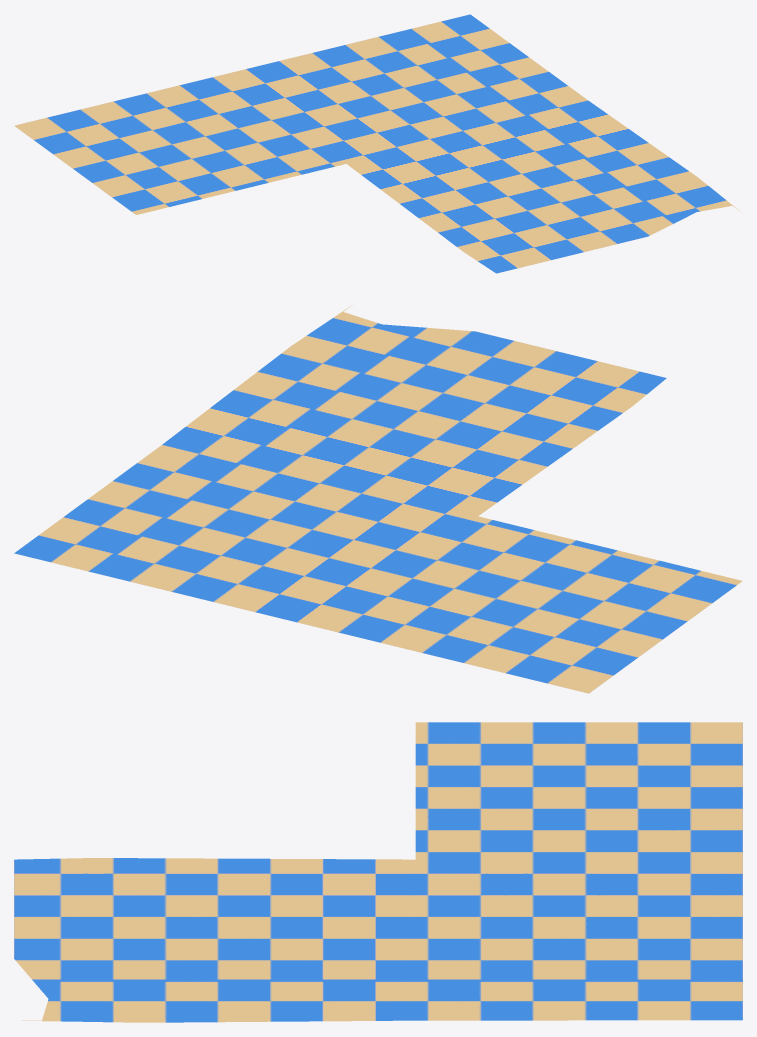
Rendered from game_Floor.fbx.
3 renders of one model, top to bottom at view 1: azimuth 30°, elevation 25°; view 2: azimuth 150°, elevation 25°; view 3: azimuth 270°, elevation 25°, orthographic. The views are drawn at different scales.
Parts seen in each view (by area): view 1: polySurface17; view 2: polySurface17; view 3: polySurface17.
Part boxes in pixels (x1=…): polySurface17: x1=14, y1=14, x2=740, y2=273; polySurface17: x1=14, y1=305, x2=742, y2=693; polySurface17: x1=14, y1=722, x2=742, y2=1022.
Bounding box in the file's own units: 1330 × 2.1e-05 × 1363.
1 material, 1 textured.
